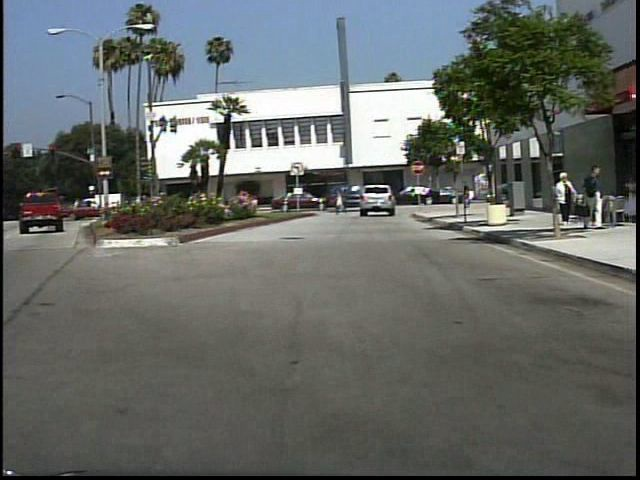person: (582, 163, 607, 233), (554, 173, 579, 227), (616, 174, 639, 223), (334, 186, 350, 218), (464, 180, 477, 213)
